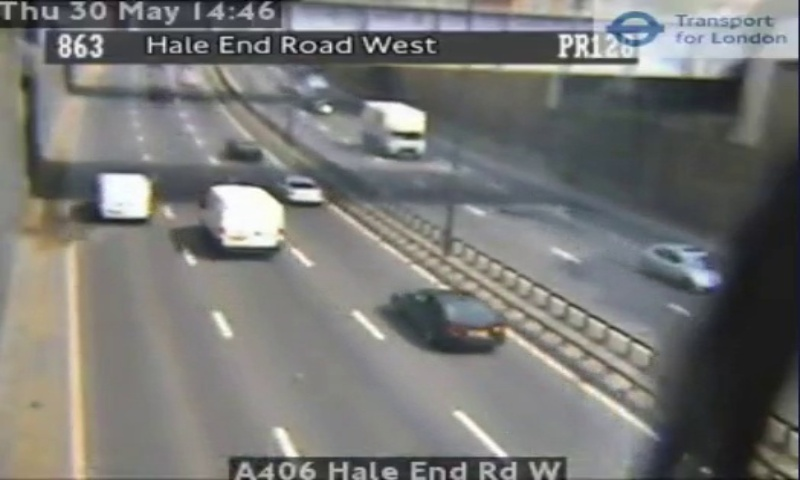car: (395, 290, 506, 348), (279, 174, 323, 203)
van: (201, 184, 285, 252), (94, 171, 152, 221)
